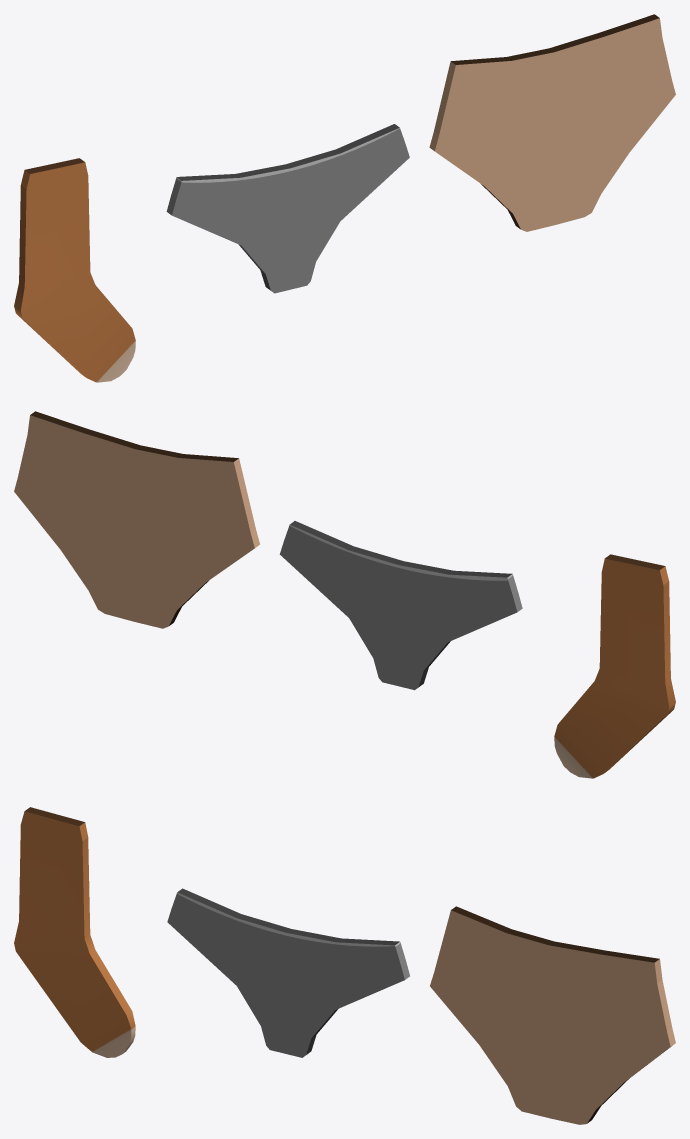
Rendered from Roupa Interior (3).FBX.
3 renders of one model, top to bottom at view 1: azimuth 30°, elevation 25°; view 2: azimuth 150°, elevation 25°; view 3: azimuth 330°, elevation 25°, orthographic.
Parts seen in each view (by area): view 1: Object002, Object003, Box002; view 2: Object002, Object003, Box002; view 3: Object002, Object003, Box002.
Part boxes in pixels (x1=…): Object002: x1=429, y1=14, x2=675, y2=231; Object003: x1=166, y1=124, x2=409, y2=293; Box002: x1=14, y1=158, x2=135, y2=382; Object002: x1=14, y1=411, x2=259, y2=628; Object003: x1=279, y1=521, x2=522, y2=690; Box002: x1=554, y1=554, x2=675, y2=778; Object002: x1=430, y1=906, x2=675, y2=1124; Object003: x1=167, y1=888, x2=409, y2=1057; Box002: x1=14, y1=807, x2=135, y2=1057.
Size of the model in its own units: 93.93 by 31.75 by 1.68.
